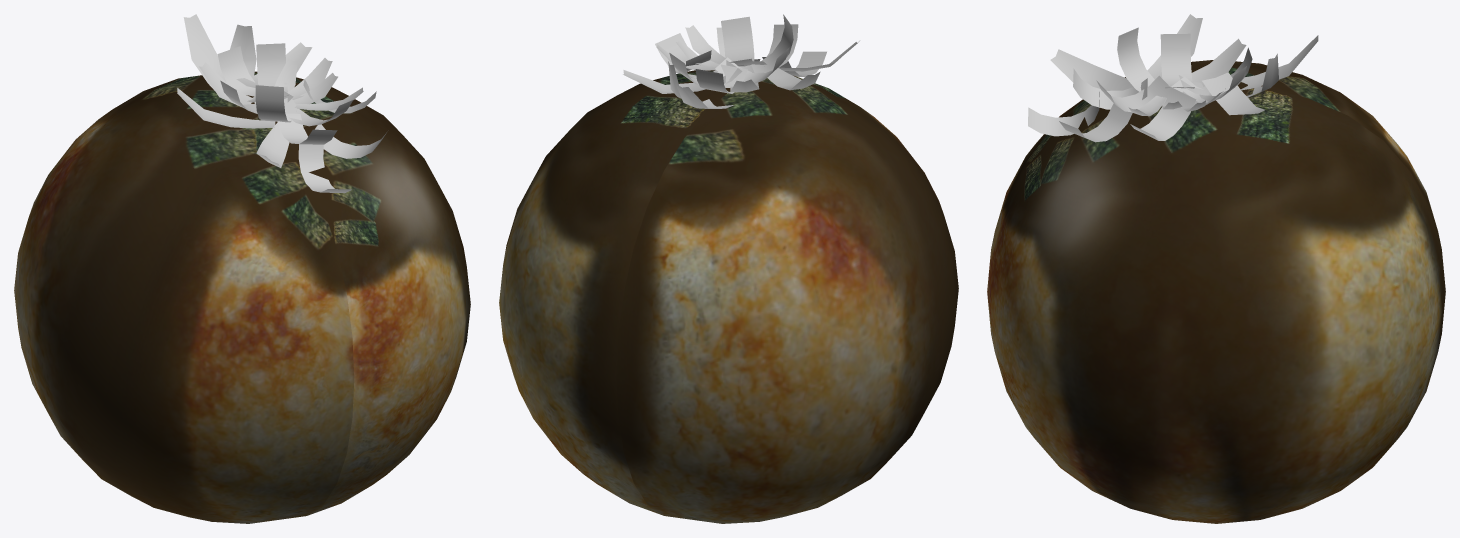
Rendered from takoyaki.fbx.
The picture shows the model from 3 angles, left to right: view 1: azimuth 30°, elevation 25°; view 2: azimuth 150°, elevation 25°; view 3: azimuth 270°, elevation 25°; orthographic projection. The views are drawn at different scales.
Parts seen in each view (by area): view 1: pCube1, pPlane2, pCylinder8, pCylinder2, pCylinder1, pCylinder4, pCylinder6, pPlane10, pPlane11, pPlane3, pCylinder9, pCylinder5 (+4 smaller); view 2: pCube1, pCylinder5, pCylinder1, pCylinder7, pCylinder4, pPlane10, pCylinder8, pPlane4, pPlane8, pCylinder6; view 3: pCube1, pCylinder3, pPlane11, pCylinder7, pCylinder4, pPlane4, pCylinder8, pCylinder9, pCylinder6, pPlane5, pCylinder5, pPlane2 (+2 smaller).
Boxes of the visible parts, box(x1,y1,x2,y2) form: pCube1: box(14, 71, 470, 523); pPlane2: box(183, 14, 226, 90); pCylinder8: box(298, 143, 351, 193); pCylinder2: box(256, 43, 288, 96); pCylinder1: box(217, 46, 255, 102); pCylinder4: box(255, 85, 296, 122); pCylinder6: box(277, 113, 337, 144); pPlane10: box(177, 88, 275, 128); pPlane11: box(256, 122, 289, 167); pPlane3: box(230, 24, 256, 76); pCylinder9: box(315, 124, 388, 158); pCylinder5: box(284, 98, 353, 126); pCube1: box(499, 70, 958, 523); pCylinder5: box(721, 16, 754, 65); pCylinder1: box(695, 64, 747, 93); pCylinder7: box(655, 33, 711, 73); pCylinder4: box(739, 14, 793, 72); pPlane10: box(767, 68, 820, 90); pCylinder8: box(762, 51, 826, 76); pPlane4: box(623, 70, 725, 93); pPlane8: box(685, 25, 725, 64); pCylinder6: box(743, 24, 798, 67); pCube1: box(987, 60, 1445, 523); pCylinder3: box(1160, 33, 1194, 88); pPlane11: box(1050, 49, 1133, 90); pCylinder7: box(1130, 87, 1196, 140); pCylinder4: box(1117, 27, 1154, 91); pPlane4: box(1202, 72, 1264, 115); pCylinder8: box(1028, 92, 1099, 136); pCylinder9: box(1059, 103, 1132, 142); pCylinder6: box(1073, 68, 1147, 109); pPlane5: box(1191, 38, 1246, 86); pCylinder5: box(1096, 75, 1171, 112); pPlane2: box(1240, 35, 1318, 90).
Size of the model in its own units: 21.18 by 23.47 by 21.18.
